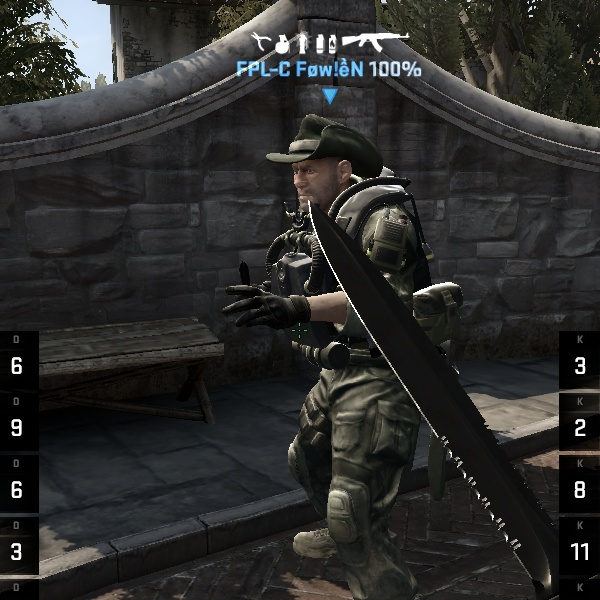ct_body: (188, 110, 508, 571)
ct_head: (262, 110, 403, 231)
